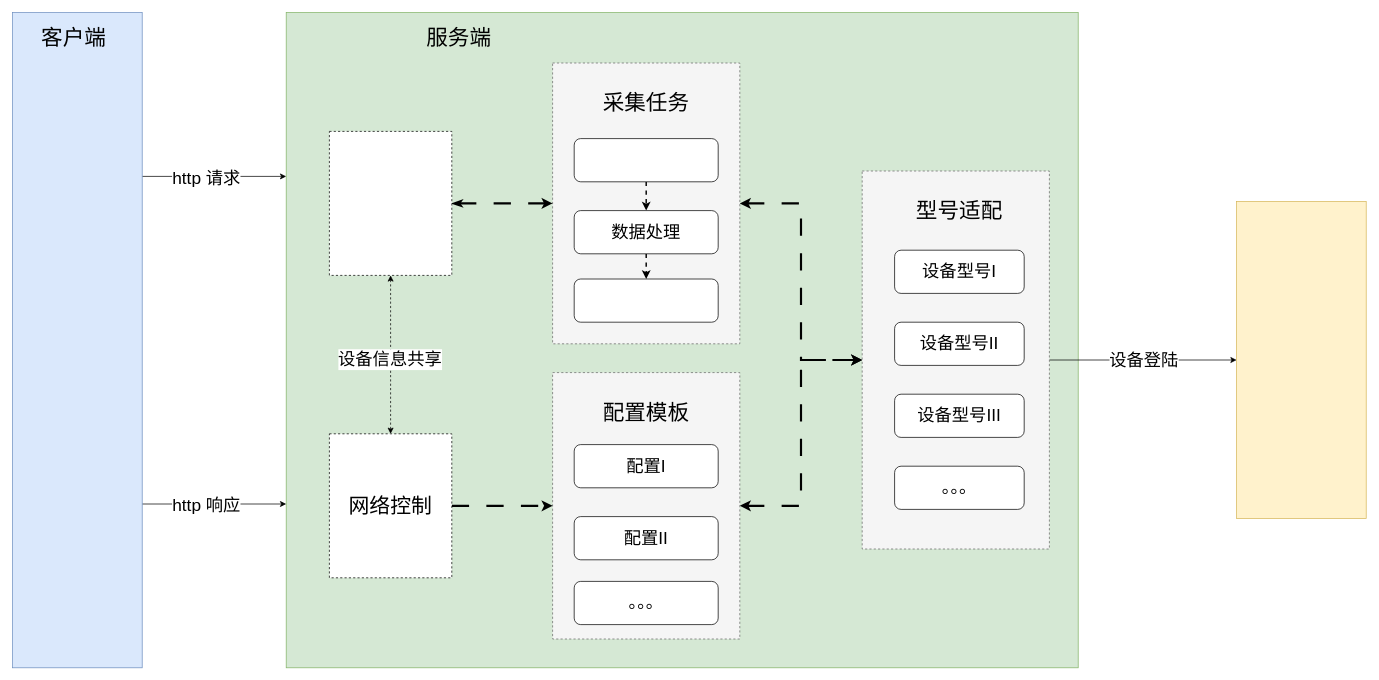
Some shapes in this 1379 by 680 pixel diagram are drawn without their labels. The box of each missing label's shape, as (x1, y1, x2, y2) in pixels:
fs 车 车 电 一 体 化 网 络: (1236, 201, 1366, 518)
数据存储: (573, 278, 718, 322)
数据采集: (573, 138, 718, 182)
用 户 操 作 界 面: (12, 12, 142, 668)
网络管理: (329, 131, 452, 275)
